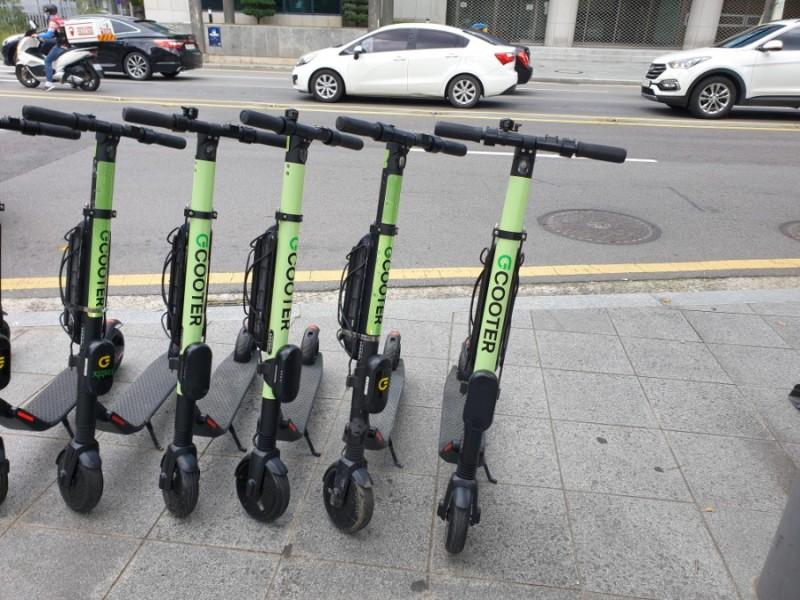scooter: (443, 118, 616, 541), (13, 100, 164, 511), (123, 104, 263, 516), (331, 110, 451, 521), (236, 108, 347, 514)
